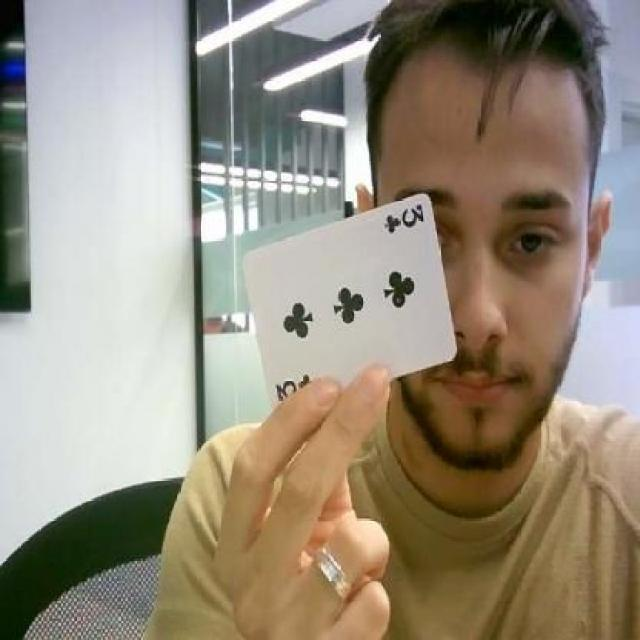3C: (383, 202, 422, 242)
